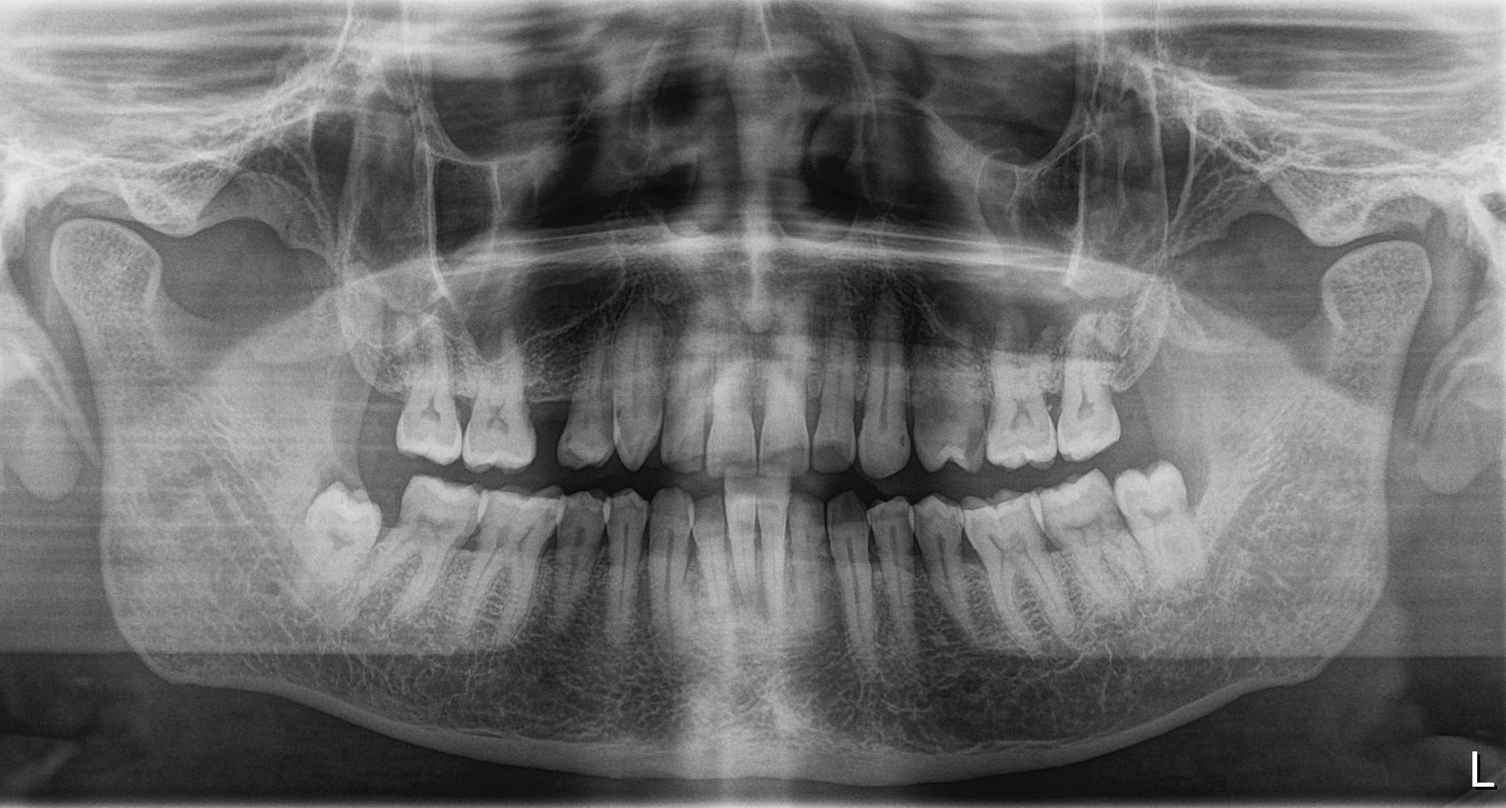Missing Tooth: (357, 351, 399, 457), (1127, 344, 1166, 433)
